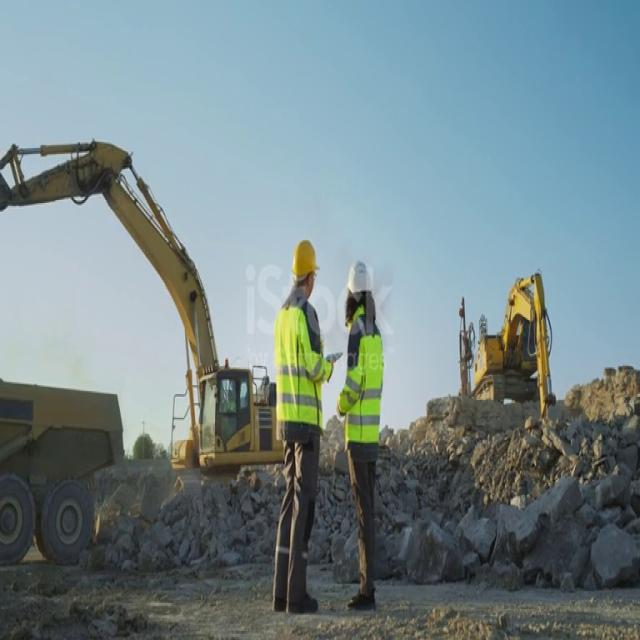capacete: (291, 234, 329, 284), (341, 256, 378, 302)
